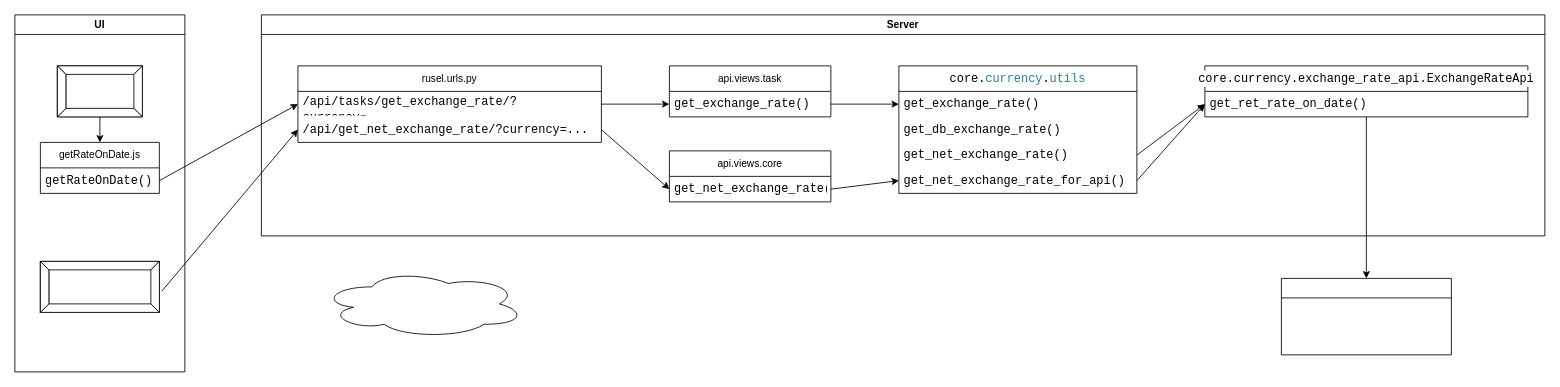
This 1560x387 diagram has some shape labels left out. Each missing label, with the centre of its shape:
CurrencyTest.tsx: [99,286]
External Currency API: [1366,316]
Fueling Form: [99,91]
On Error: UI print in console Server write in log base: [422,303]
